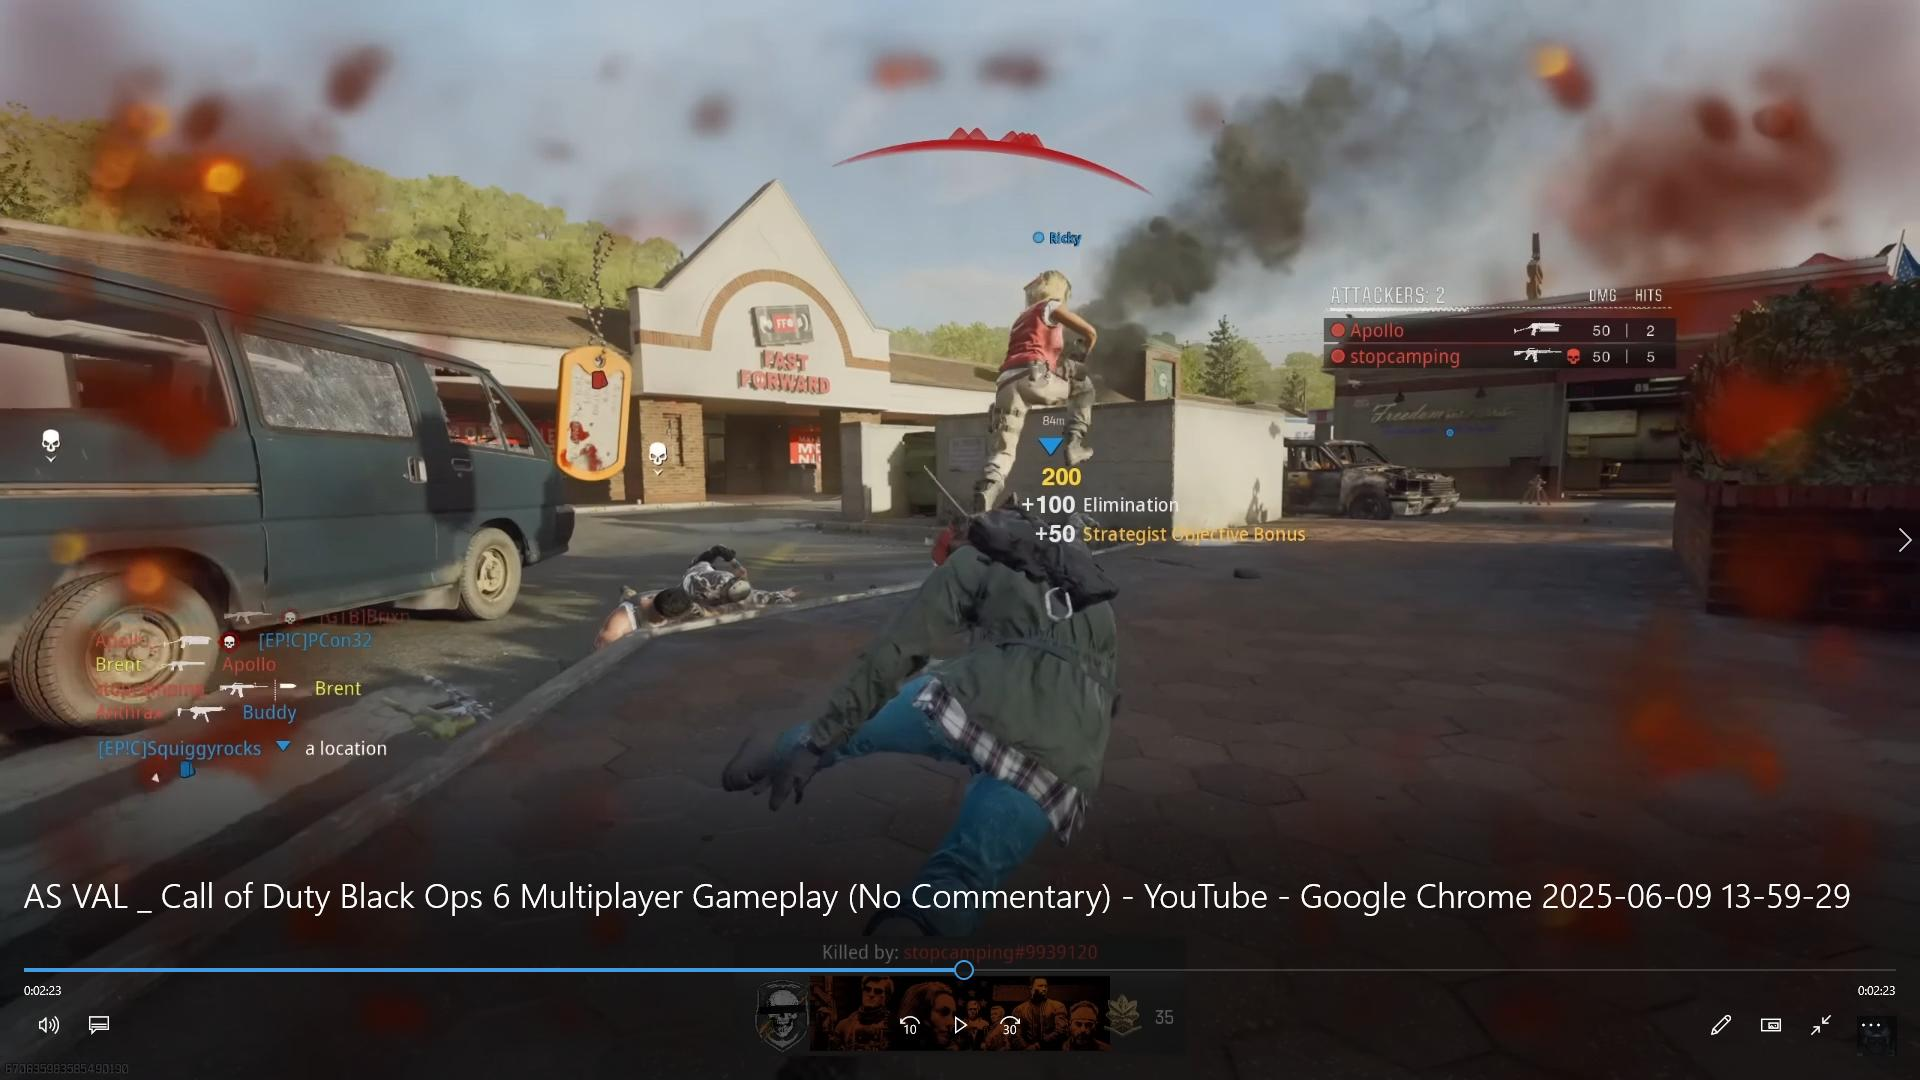Enemy: (988, 260, 1108, 476)
